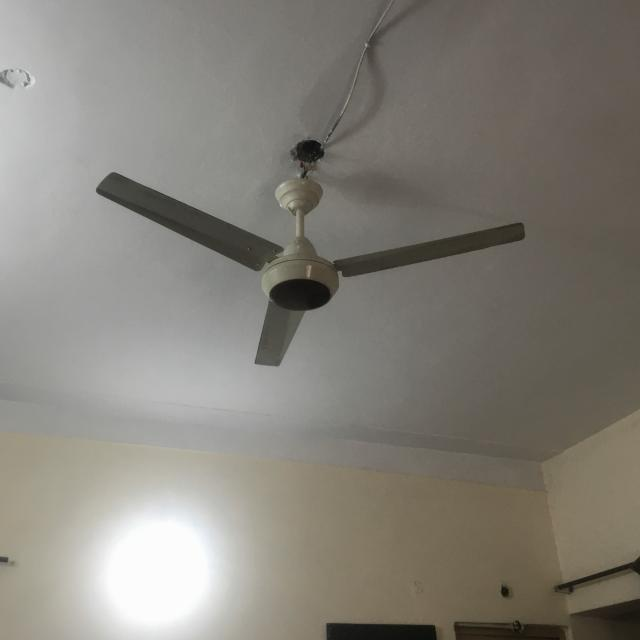off: (89, 167, 529, 372)
